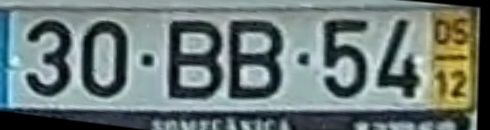0: (76, 16, 135, 102)
3: (18, 16, 78, 102)
4: (373, 16, 426, 103)
5: (318, 18, 373, 102)
B: (224, 16, 290, 103), (163, 18, 227, 102)
